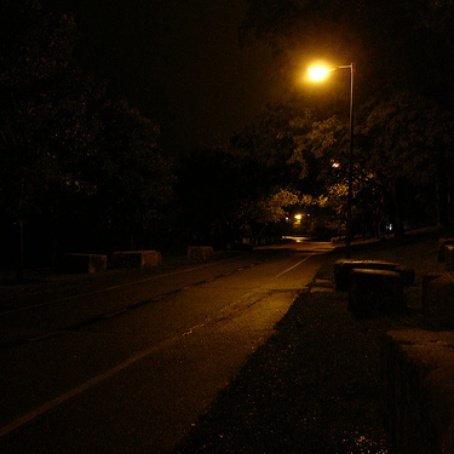light pole: (308, 55, 361, 275)
street: (1, 240, 328, 454)
tree: (1, 22, 182, 237)
